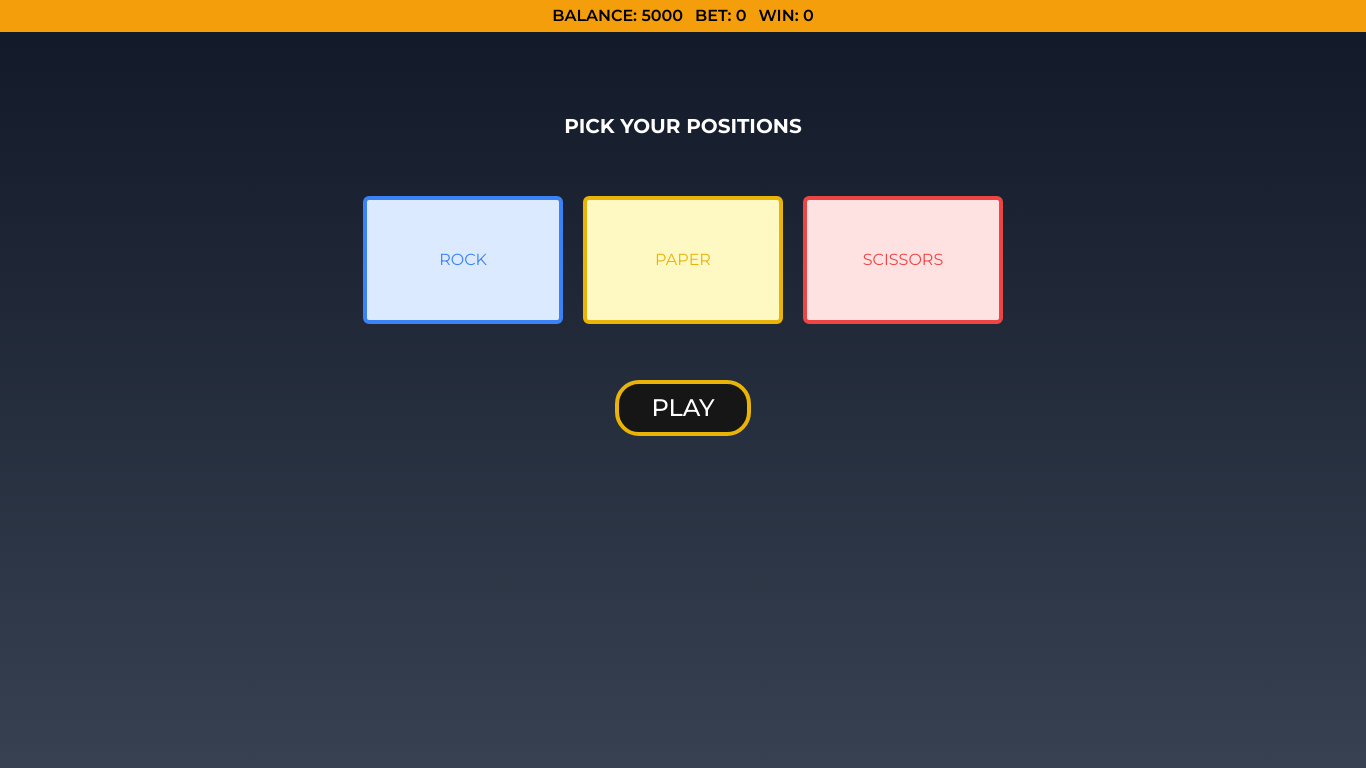
Test: Bet amount clear › places bet then clears all bet amount
Step 1. Click the text "ROCK" → (463, 260), box left=439, top=248, right=487, bottom=272
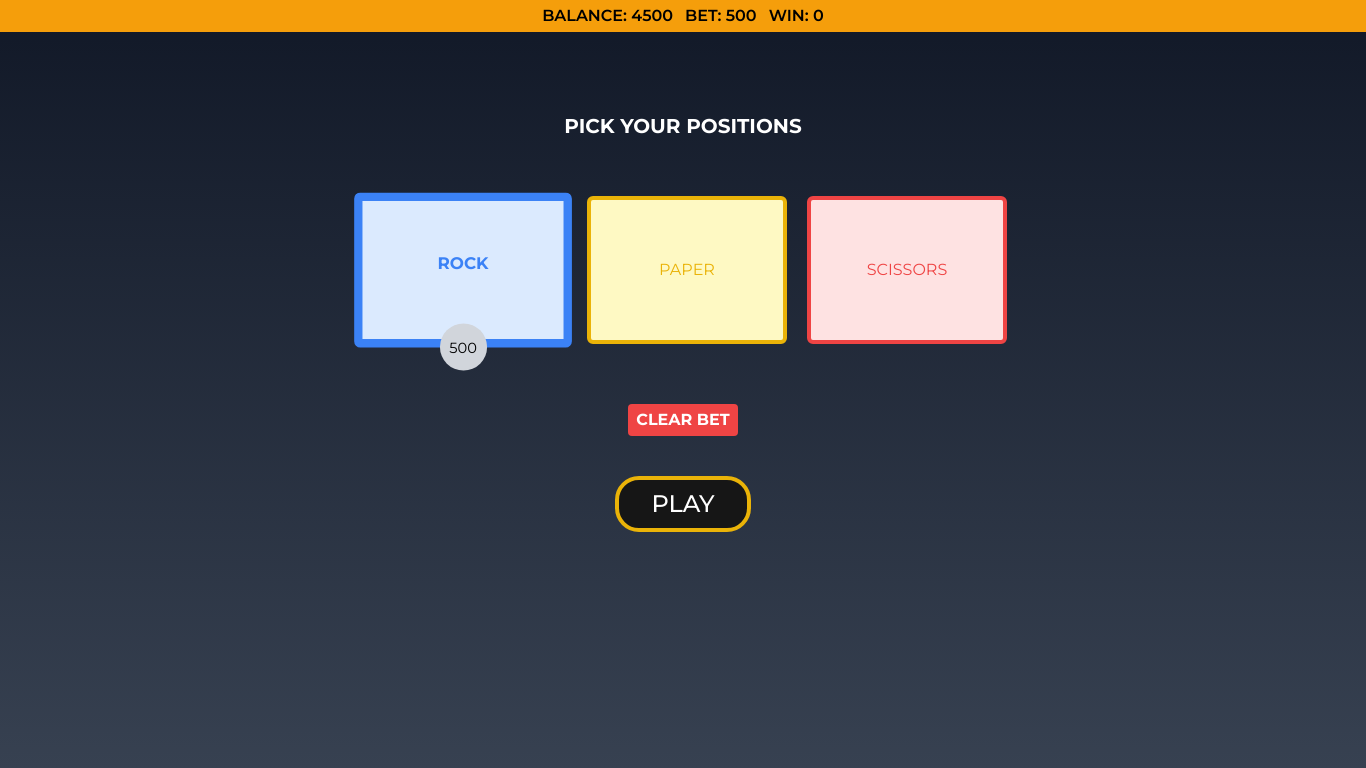
Step 2. Click the text "SCISSORS" → (908, 270), box left=867, top=258, right=948, bottom=282
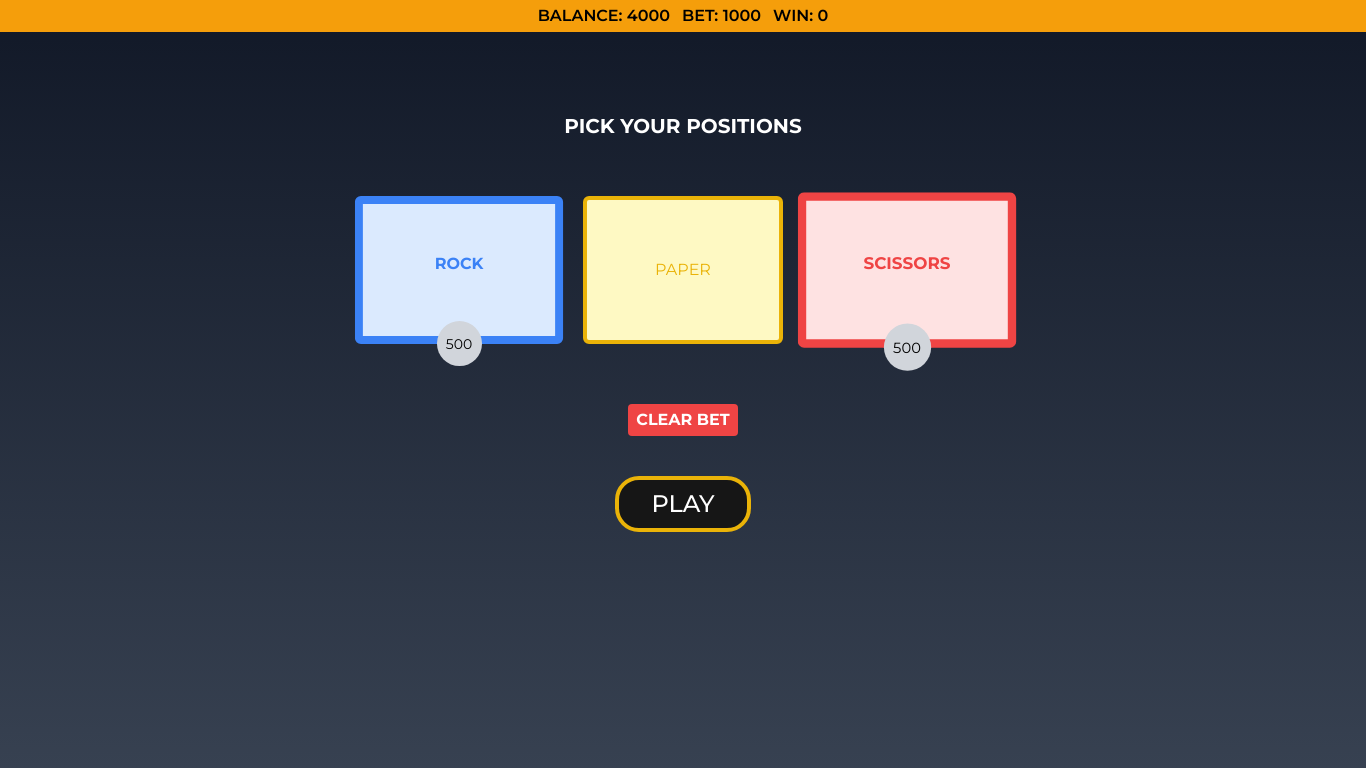
Step 3. Click the text "SCISSORS" → (908, 264), box left=864, top=251, right=951, bottom=276
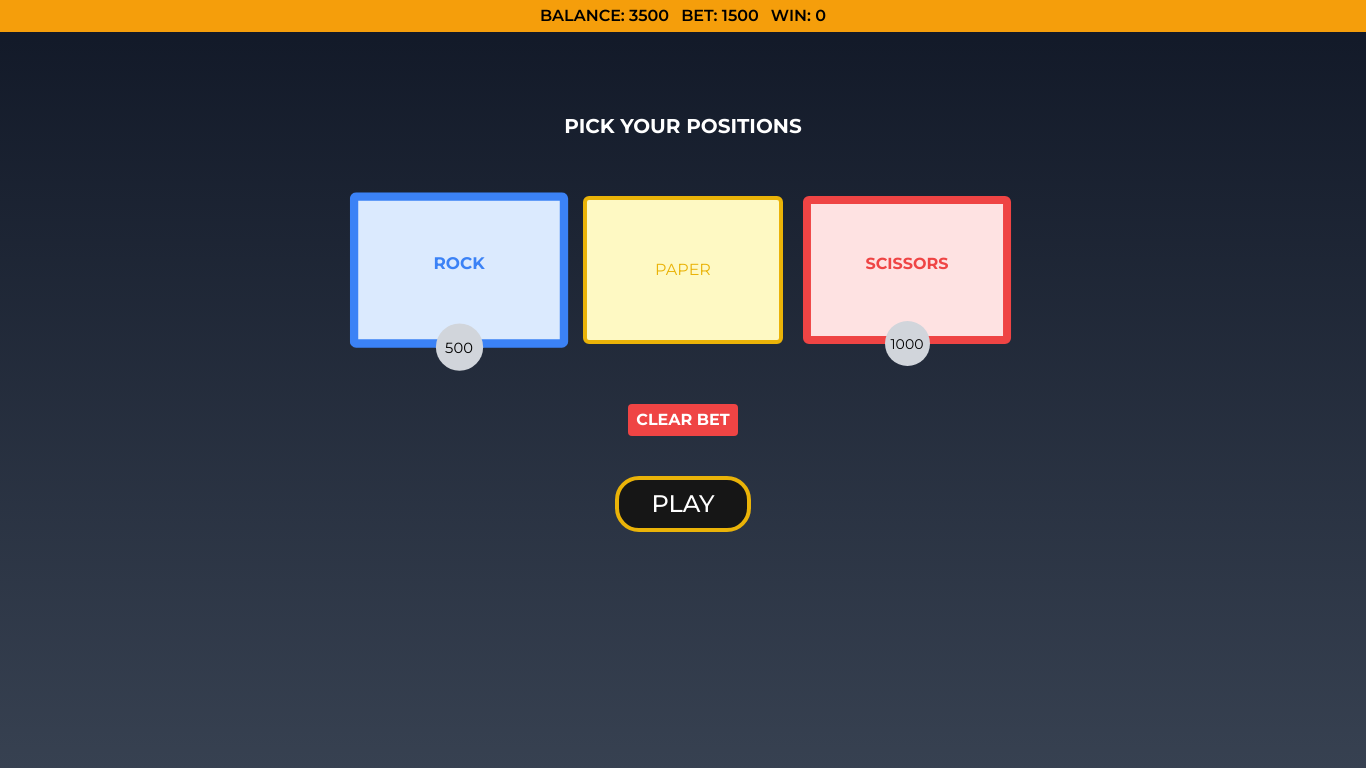
Step 4. Click the button "CLEAR BET" → (683, 420), box left=628, top=404, right=737, bottom=436
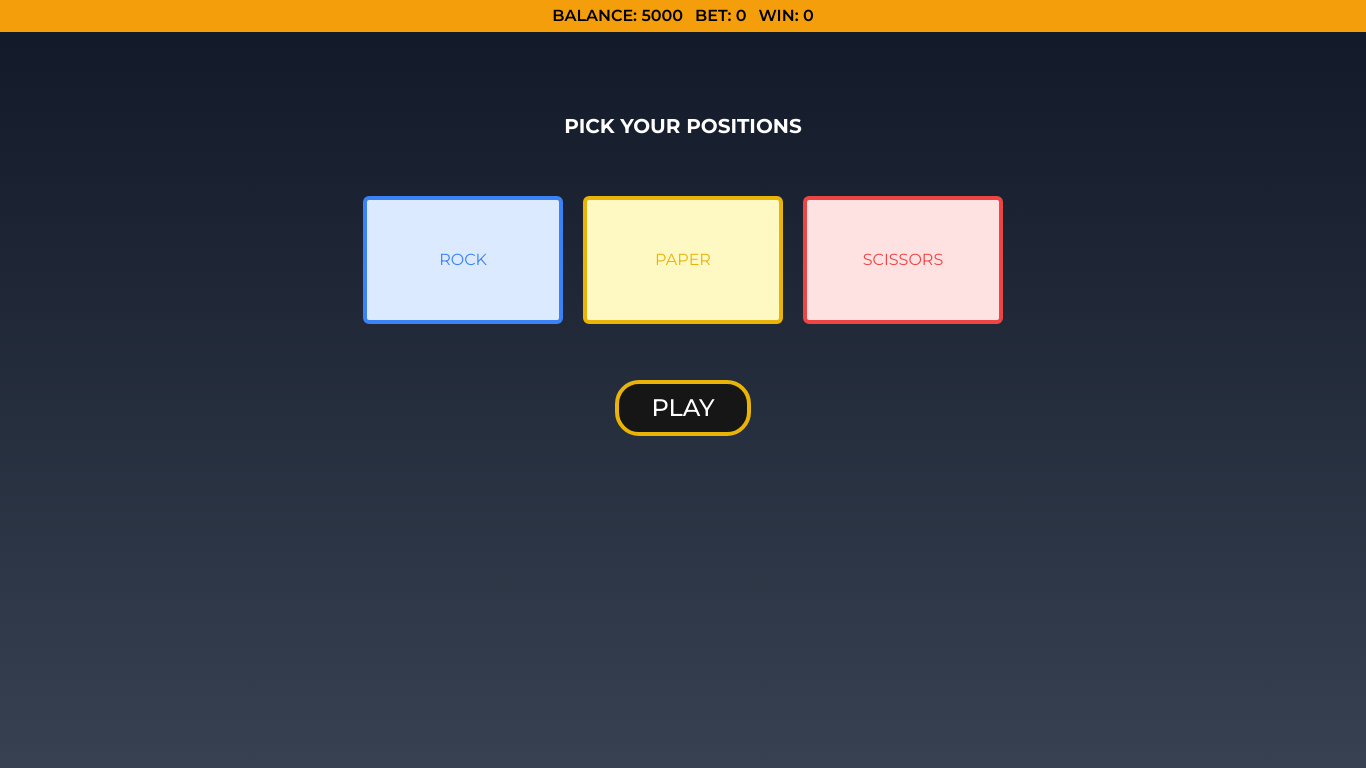
Result: the text "BET: 0" is shown at left=695, top=4, right=746, bottom=28
